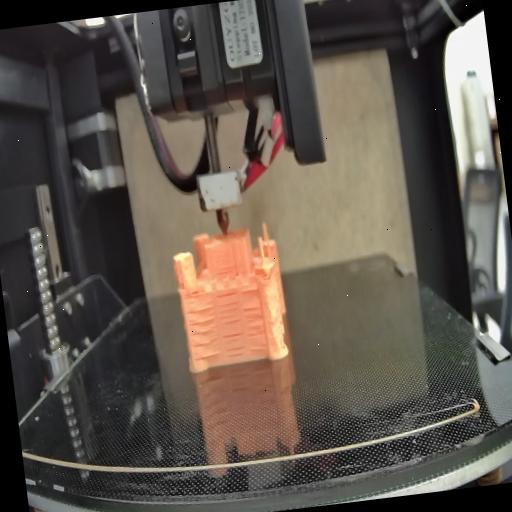cracks: (216, 286, 249, 360), (184, 304, 220, 360), (242, 304, 270, 354), (215, 258, 238, 278), (241, 286, 262, 300), (186, 282, 204, 296)
